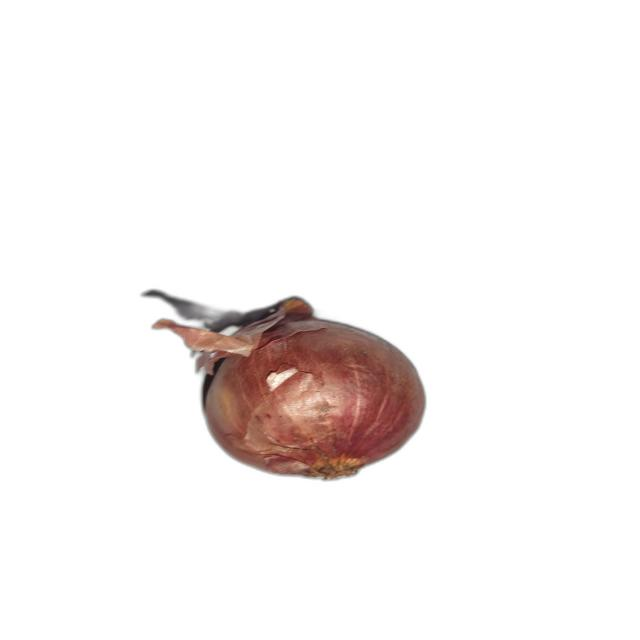onion: (153, 296, 428, 482)
